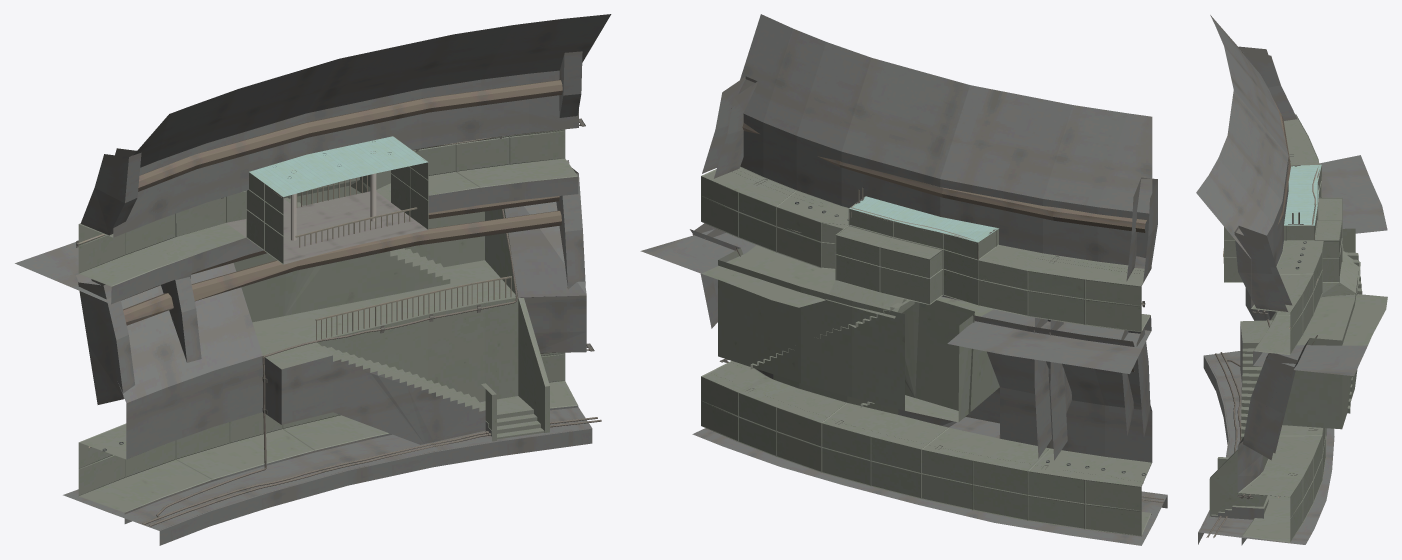
Rendered from SM_ENV_TCHEXA_ArenaWall_Ba.fbx.
3 views of the same model, side by side, from view 1: azimuth 30°, elevation 25°; view 2: azimuth 150°, elevation 25°; view 3: azimuth 270°, elevation 25° (orthographic). The views are drawn at different scales.
Parts seen in each view (by area): view 1: SM_ENV_TCHEXA_ArenaWall_Ba.mo; view 2: SM_ENV_TCHEXA_ArenaWall_Ba.mo; view 3: SM_ENV_TCHEXA_ArenaWall_Ba.mo.
Part boxes in pixels (left/top/right/bottom): SM_ENV_TCHEXA_ArenaWall_Ba.mo: left=15, top=14, right=611, bottom=545; SM_ENV_TCHEXA_ArenaWall_Ba.mo: left=640, top=14, right=1167, bottom=545; SM_ENV_TCHEXA_ArenaWall_Ba.mo: left=1196, top=15, right=1387, bottom=545.
Size of the model in its own units: 4046 by 3067 by 1483.
